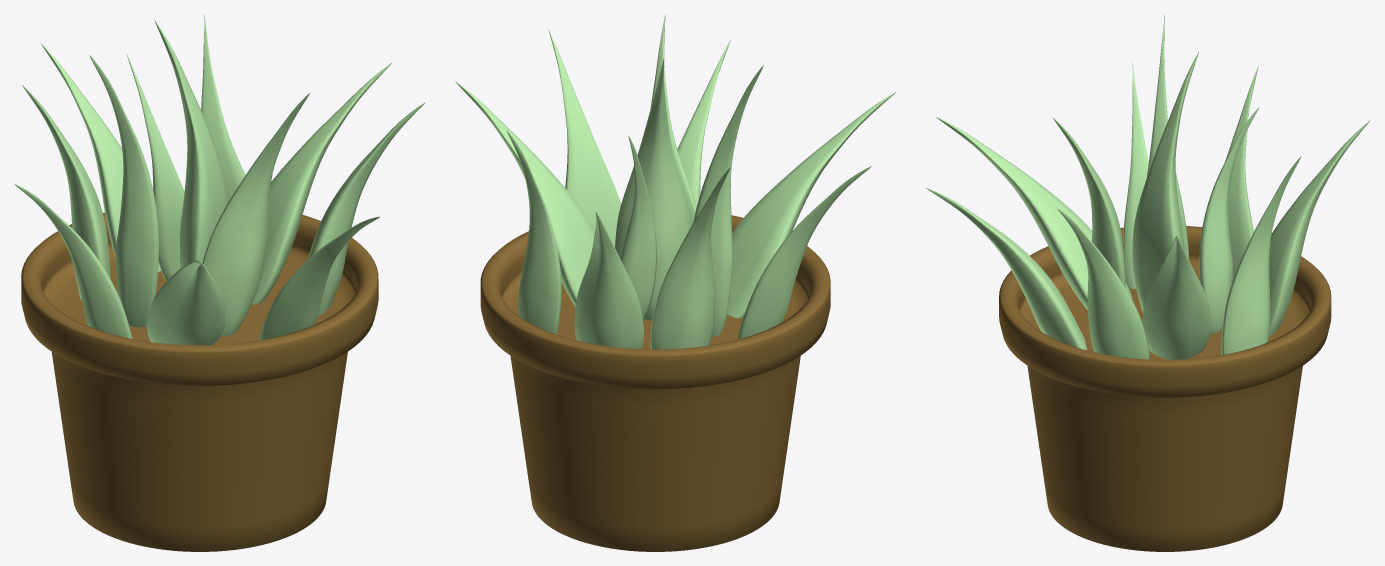
The model's file is Plant1.fbx.
3 renders of one model, left to right at view 1: azimuth 30°, elevation 25°; view 2: azimuth 150°, elevation 25°; view 3: azimuth 270°, elevation 25°, orthographic. The views are drawn at different scales.
Parts seen in each view (by area): view 1: pCube17; view 2: pCube17; view 3: pCube17.
Boxes of the visible parts, x1=… form: pCube17: x1=14, y1=14, x2=424, y2=551; pCube17: x1=455, y1=15, x2=895, y2=551; pCube17: x1=926, y1=15, x2=1370, y2=551.
Bounding box in the file's own units: 2.9 × 3.27 × 2.98.
